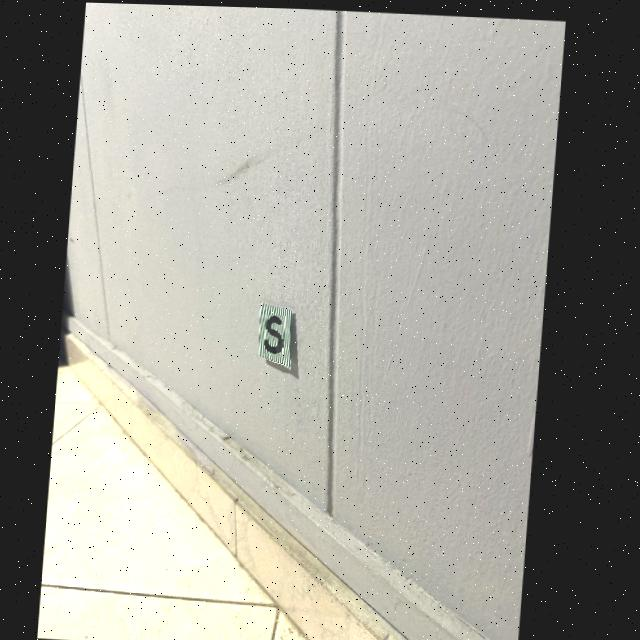S: (269, 314, 287, 351)
